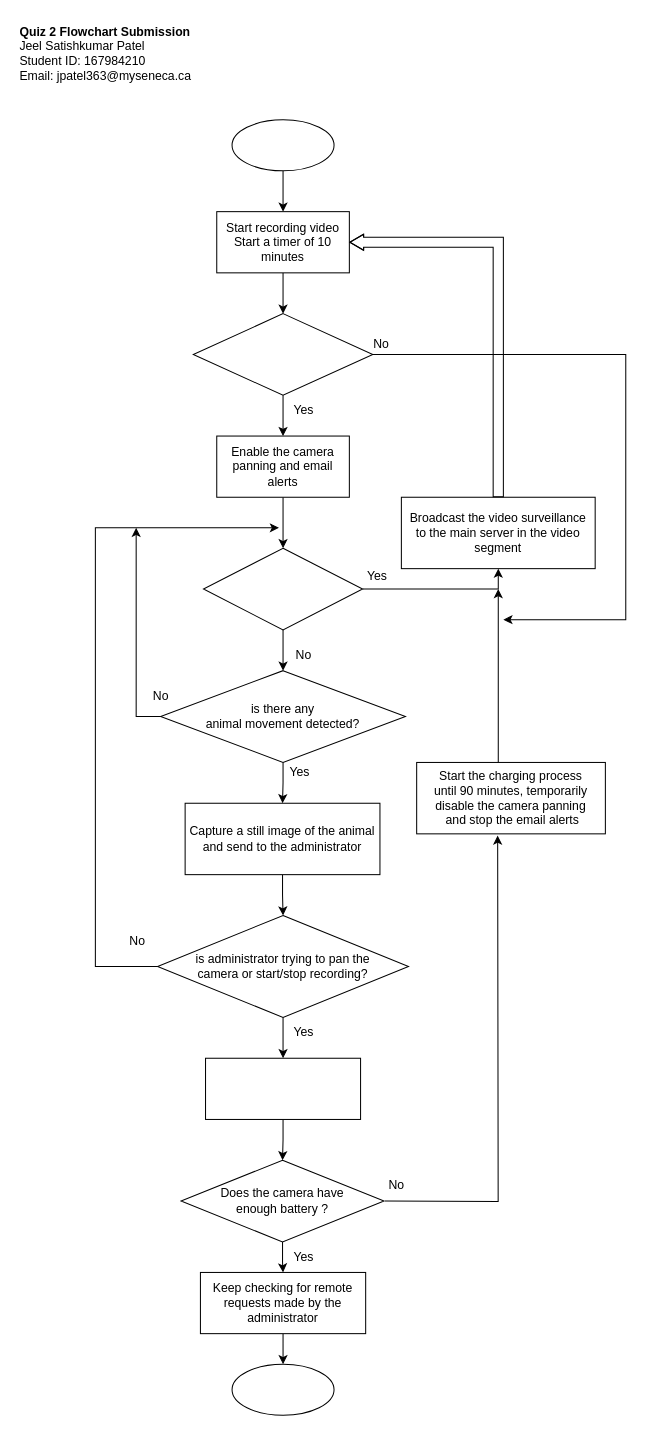
The diagram is 652 pixels wide and 1433 high, and some of its shapes have lost their labels. The shapes that lost their labels are listed below. From the top down, each one's centre as x and y in pixels, then its label:
At pixel 282 145: "Start".
At pixel 282 354: "is the battery charged completely?".
At pixel 282 588: "is the timer done?".
At pixel 283 1088: "Execute the requests by administrator".
At pixel 282 1389: "End".
